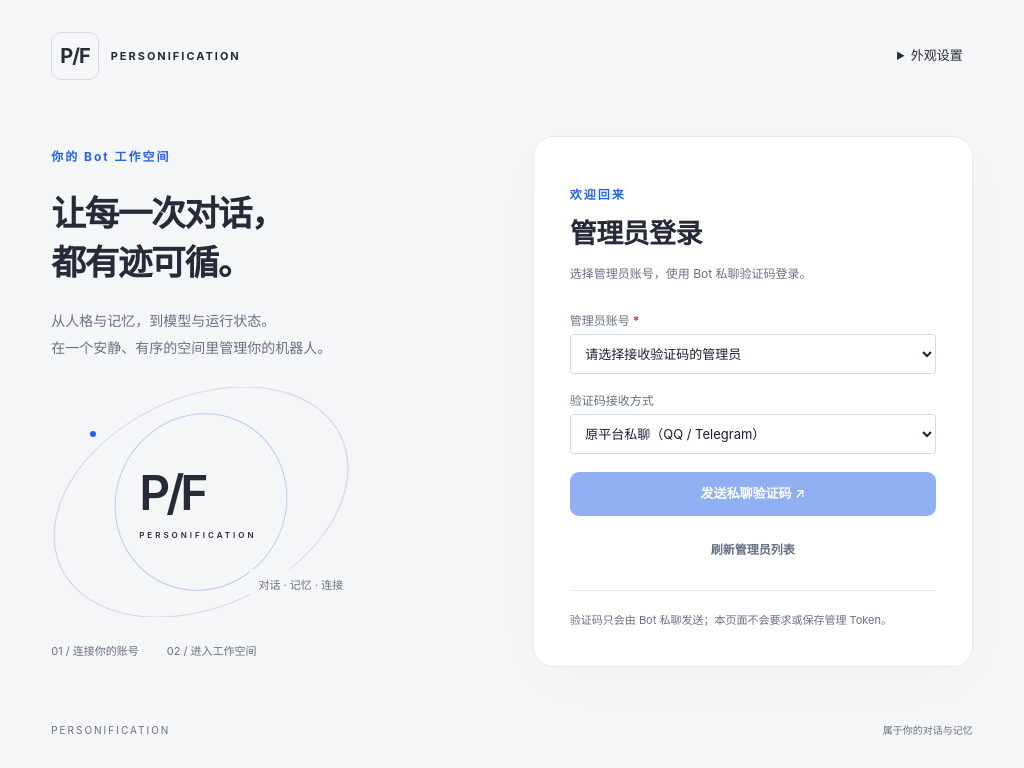
Test: 认证入口 › 官方 QQ 领取显示请求命令而不声称已经发送
Select "QQ 10001 · 超级用户" in the dropdown labelled "管理员账号 *" at (753, 354), box [570,334,936,374]
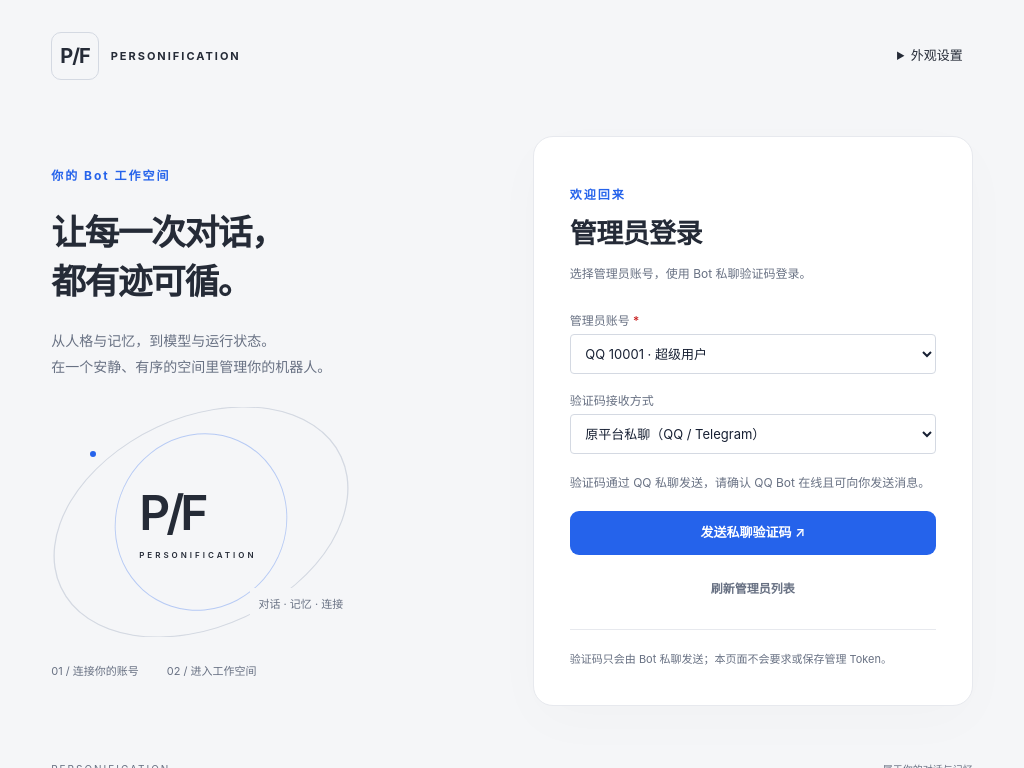
Select "官方 QQ 私聊领取（需已绑定）" in the dropdown labelled "验证码接收方式" at (753, 434), box [570,414,936,454]
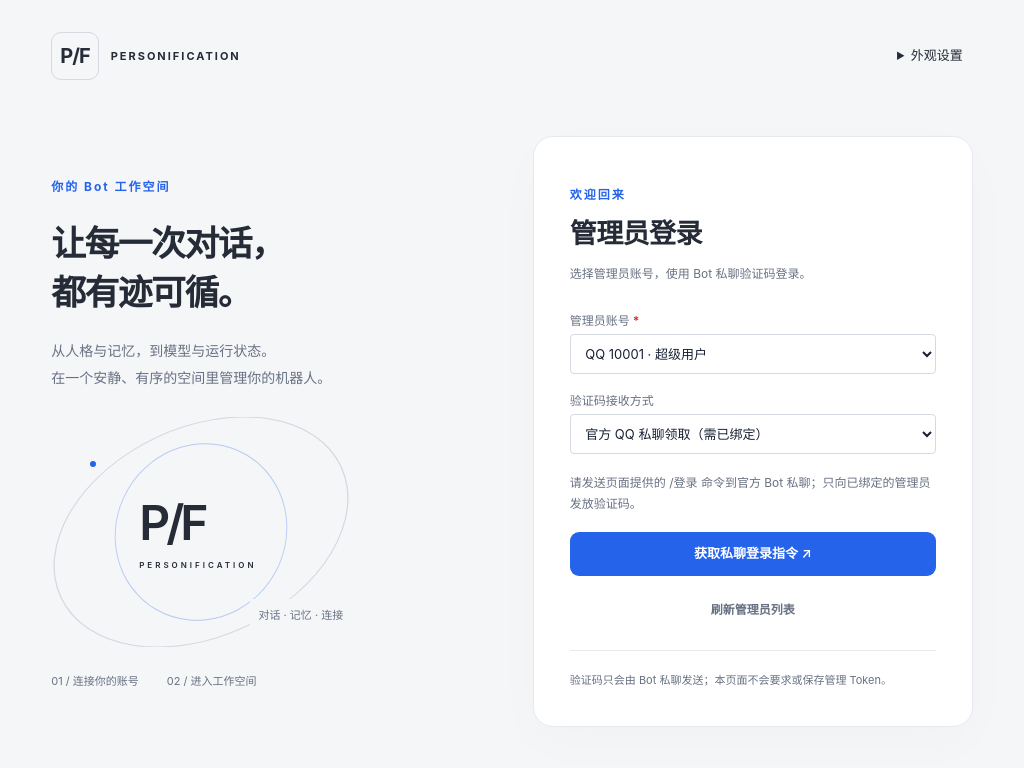
Submit the form, box [570,312,936,626]
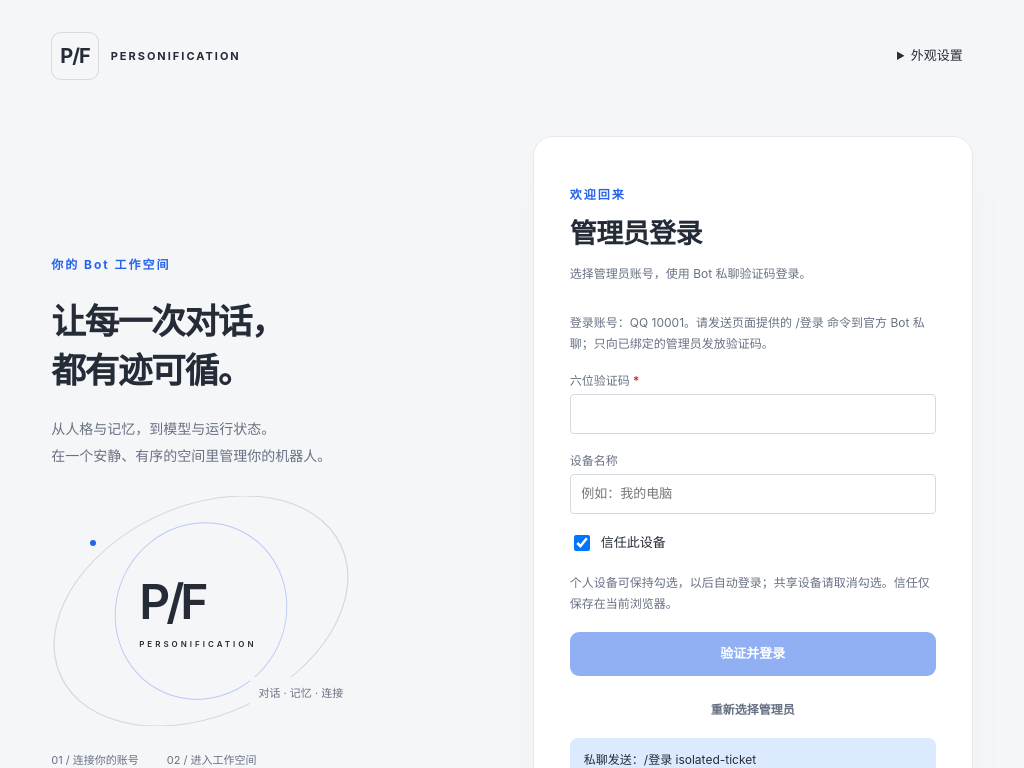
Expected: the text "/登录 isolated-ticket" is shown, [584,752,756,766]
